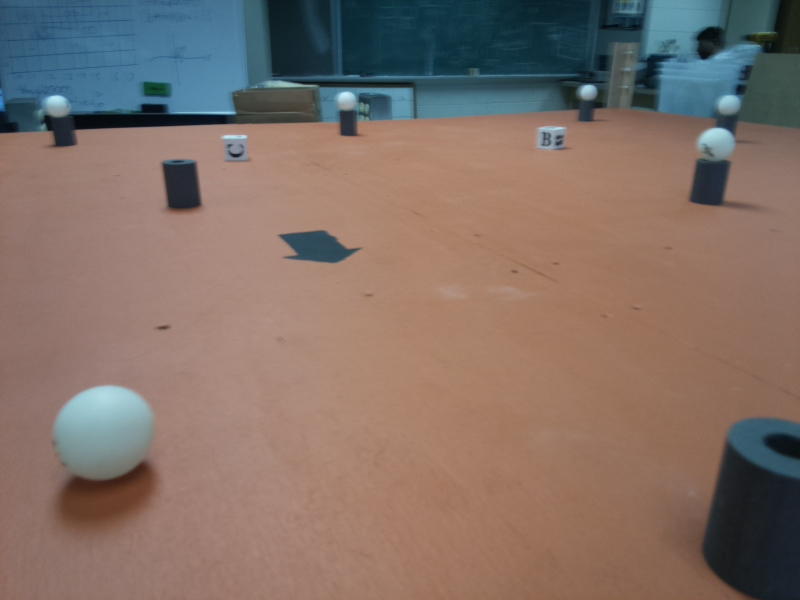blockB: (538, 124, 567, 153)
blockC: (222, 133, 247, 162)
corner: (610, 42, 635, 109)
obstacle: (704, 410, 800, 599), (693, 125, 734, 203), (163, 156, 201, 213), (44, 93, 73, 147), (335, 88, 359, 140), (718, 94, 741, 131), (579, 83, 599, 123)
start: (274, 225, 365, 271)
